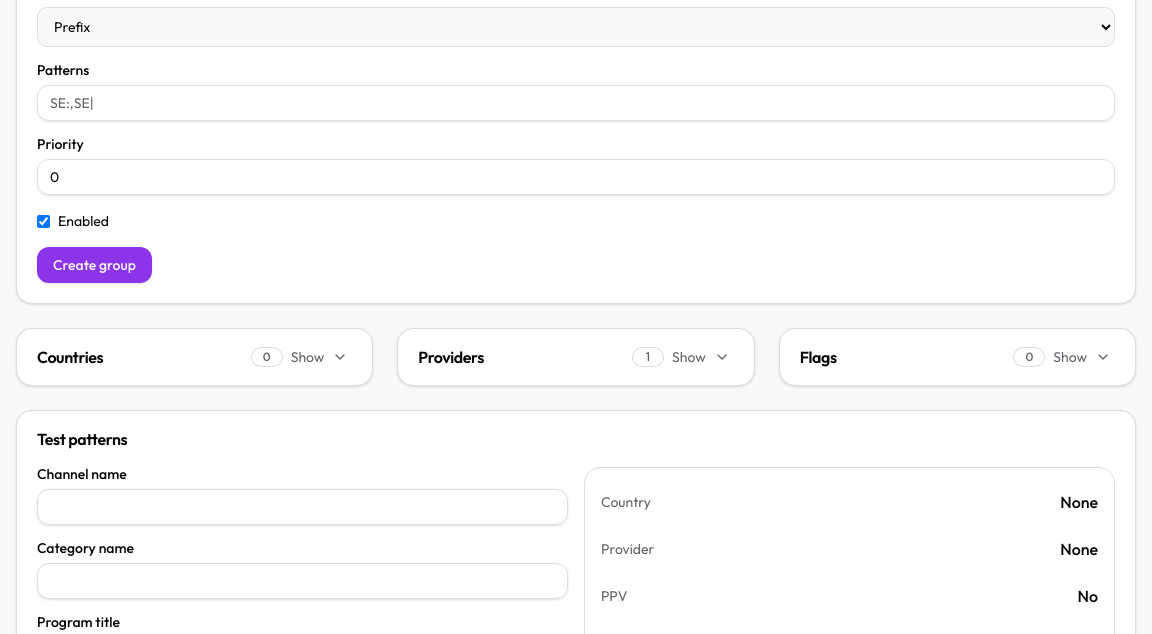
Test: AdminPage JSON import › renders rule sections collapsed by default and expands a section on click
(page scrolled)
Click the button with aria-label "expand providers": (451, 357) [418,345,734,369]
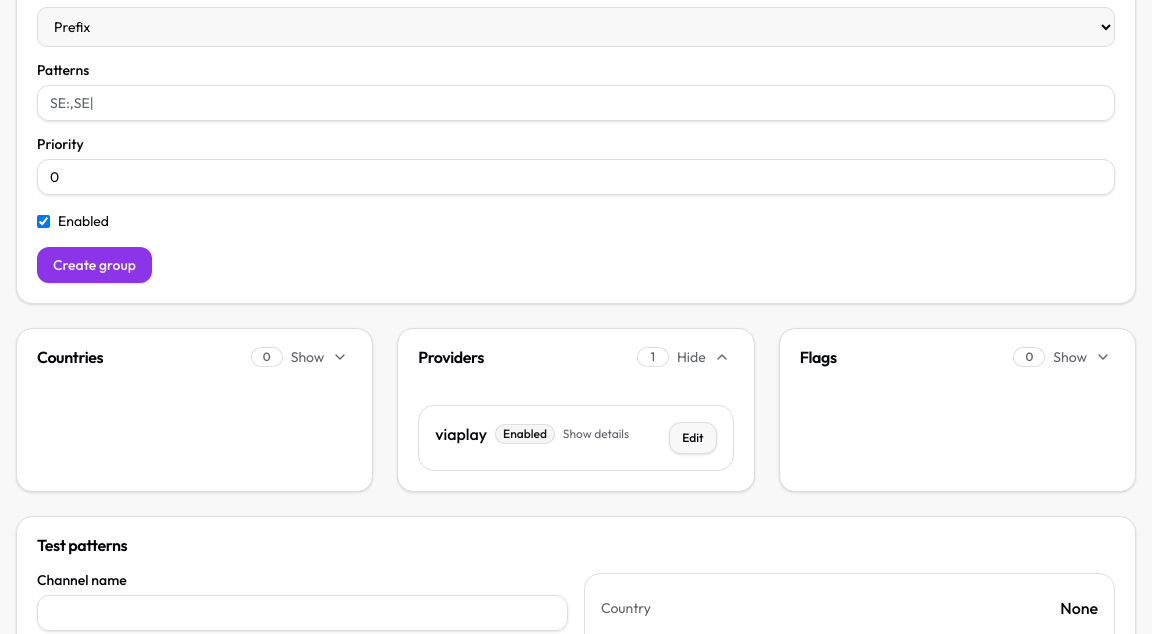
Expected: the button with aria-label "collapse providers" is expanded, [418,345,734,369]
Expected: the button with aria-label "expand viaplay" is shown, [435,422,657,446]
